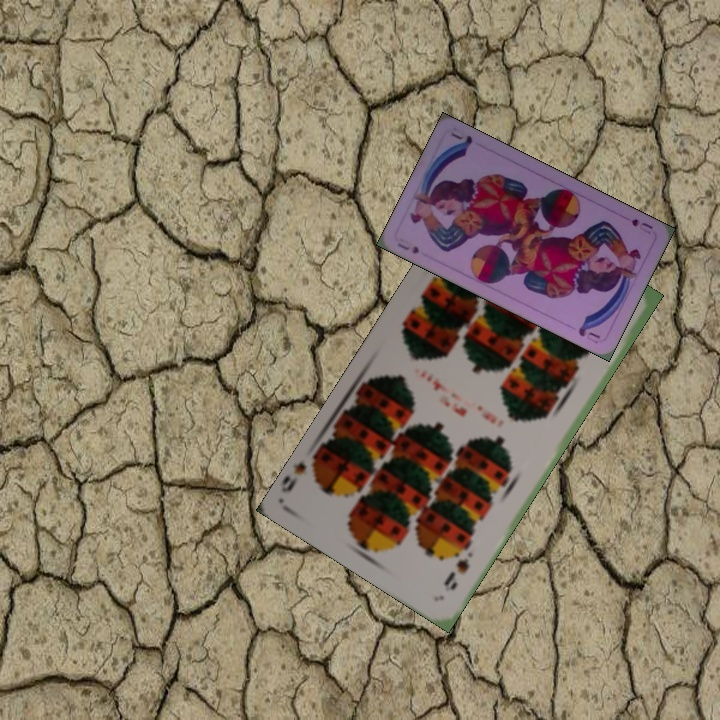S9: (440, 554, 472, 593)
SU: (627, 215, 655, 237), (393, 239, 422, 256)
